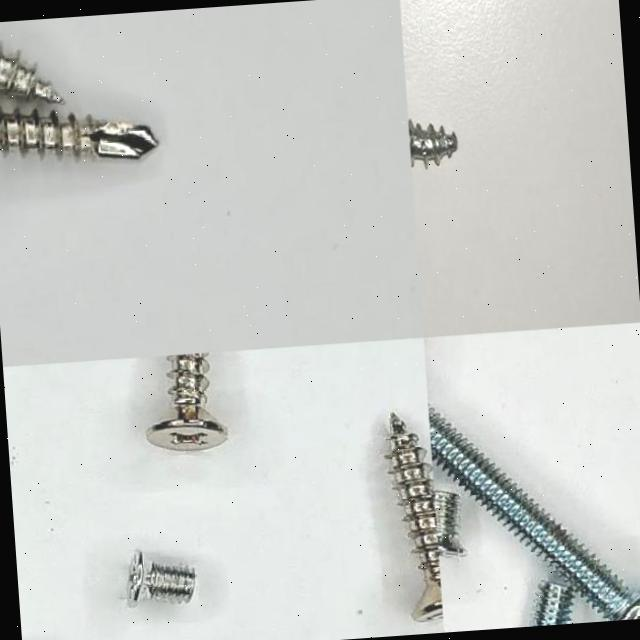Screw: (428, 404, 640, 621), (387, 413, 443, 622), (0, 108, 159, 159), (147, 352, 229, 449), (126, 550, 195, 606), (0, 46, 62, 102), (408, 118, 457, 167), (434, 491, 466, 556), (531, 581, 574, 626)
